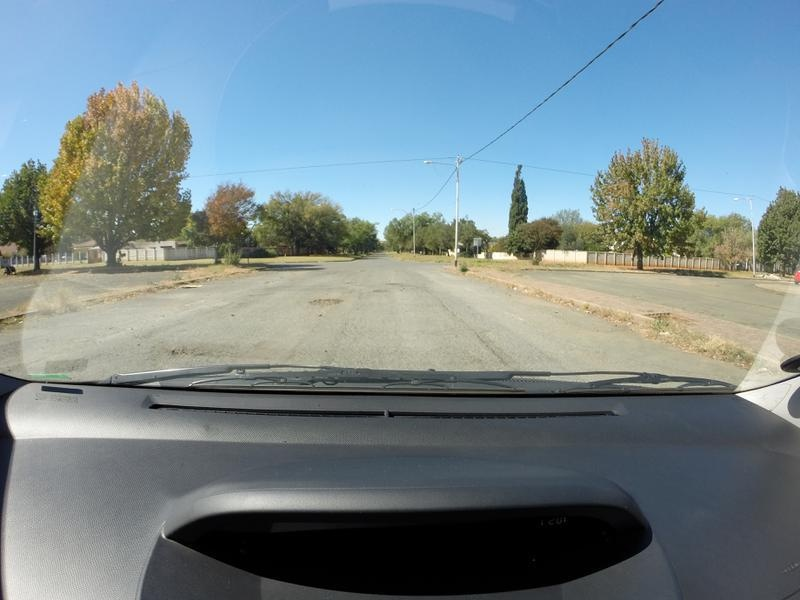pothole: (167, 345, 213, 359), (298, 295, 346, 306), (382, 281, 402, 288), (367, 287, 389, 292)
